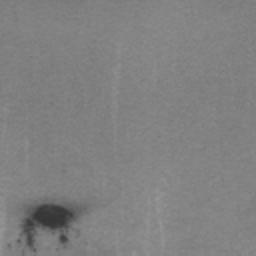Iron sheet ash: (23, 205, 74, 255), (59, 234, 67, 243)
